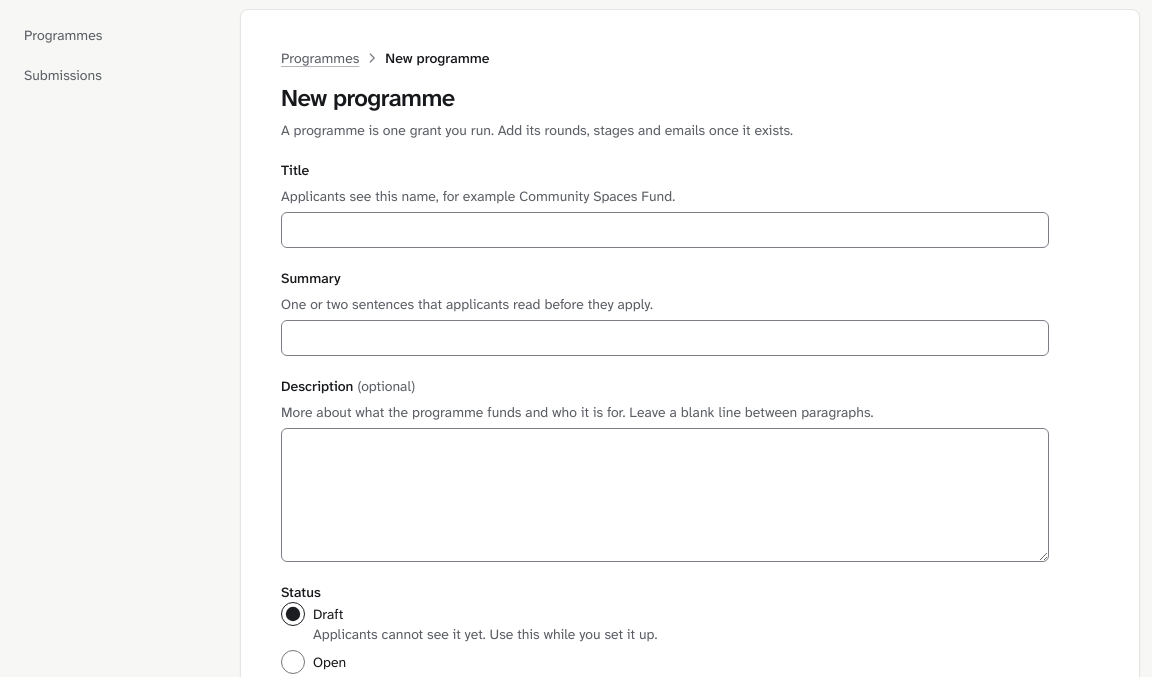
Test: creating a programme › shows the API's words when it refuses the programme
Type "Community Spaces Fund" into the field labelled "Title". click: (665, 230)
box: [281,212,1049,248]
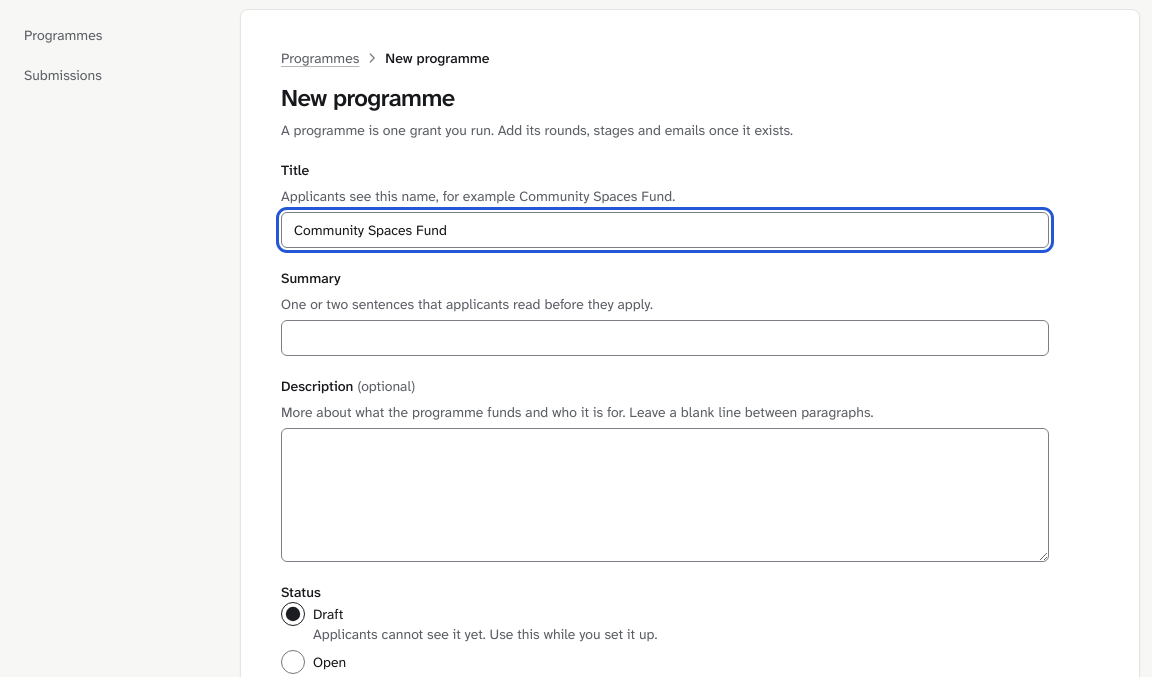
Type "Grants." into the field labelled "Summary". click: (665, 338)
box: [281,320,1049,356]
(page scrolled)
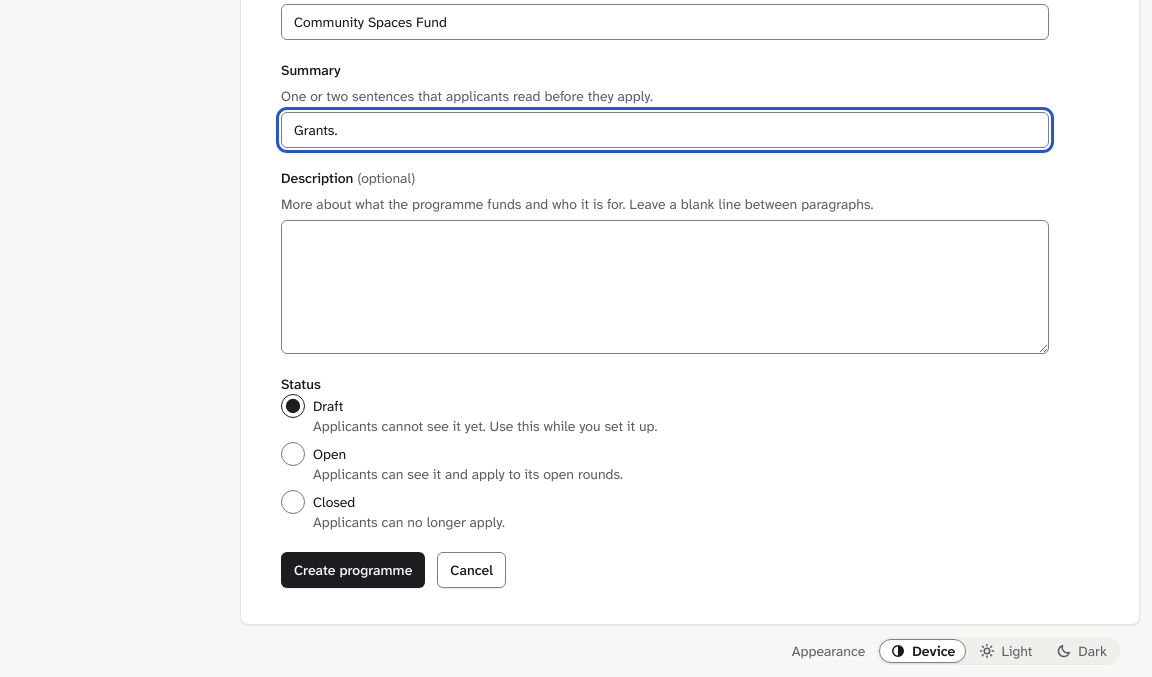
Click the button "Create programme". click: (353, 570)
box: [281,552,425,588]
(page scrolled)
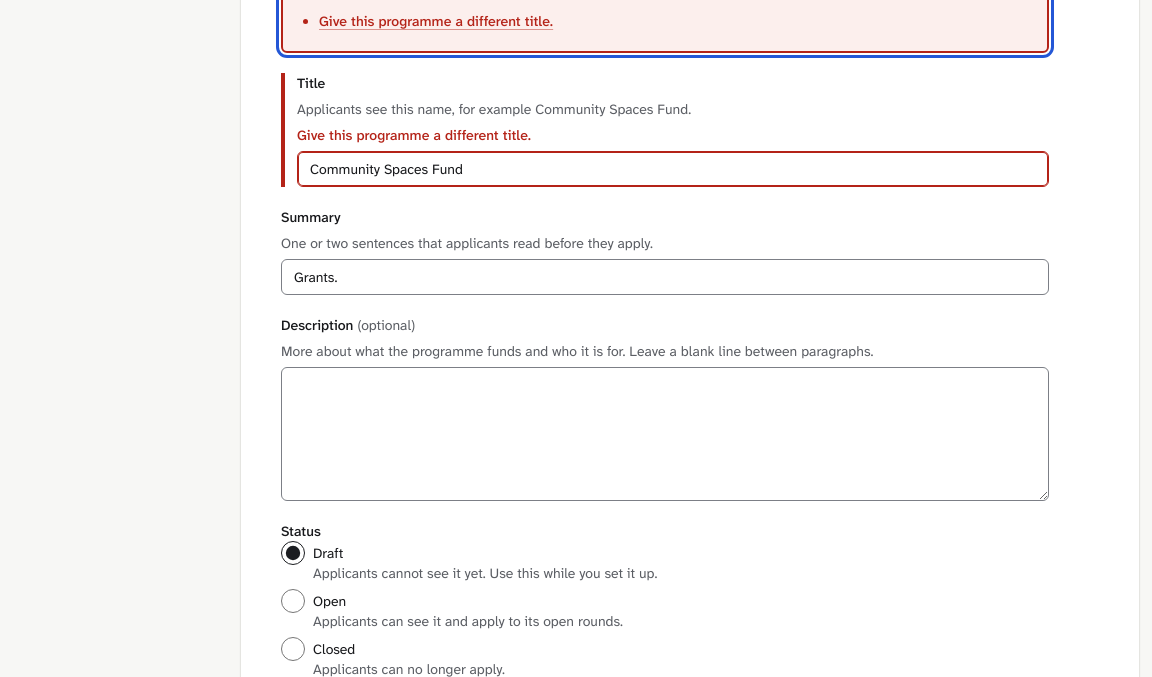
Expected: the link reads "Give this programme a different title.", [319,12,553,30]
Expected: the number of links "Give this programme a different title." is 2, [319,12,553,30]; [296,125,531,144]
